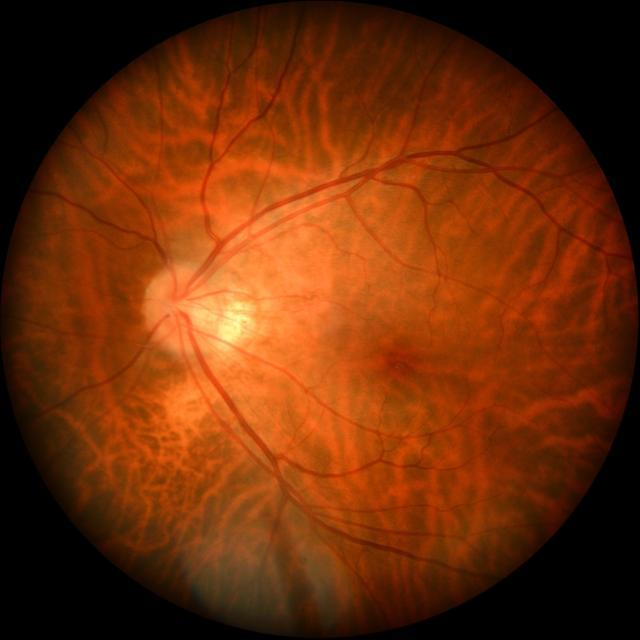OC: (168, 296, 190, 324)
OD: (143, 265, 220, 353)
